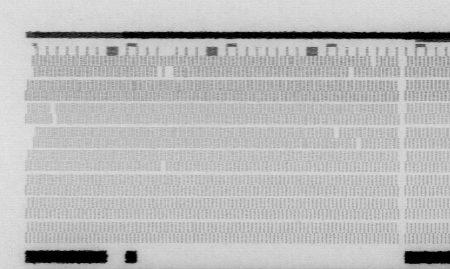Broken hole: (18, 125, 37, 151), (21, 52, 36, 80), (48, 99, 61, 126), (155, 65, 175, 78), (368, 54, 380, 69), (159, 159, 169, 172), (332, 127, 342, 140), (354, 136, 364, 149), (347, 65, 357, 77)
